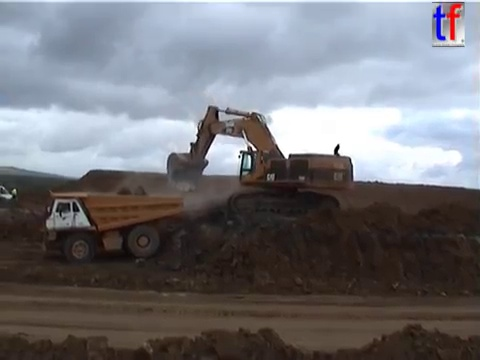excavator: (164, 103, 357, 220)
truck: (36, 187, 185, 264)
worker: (9, 185, 19, 205)
